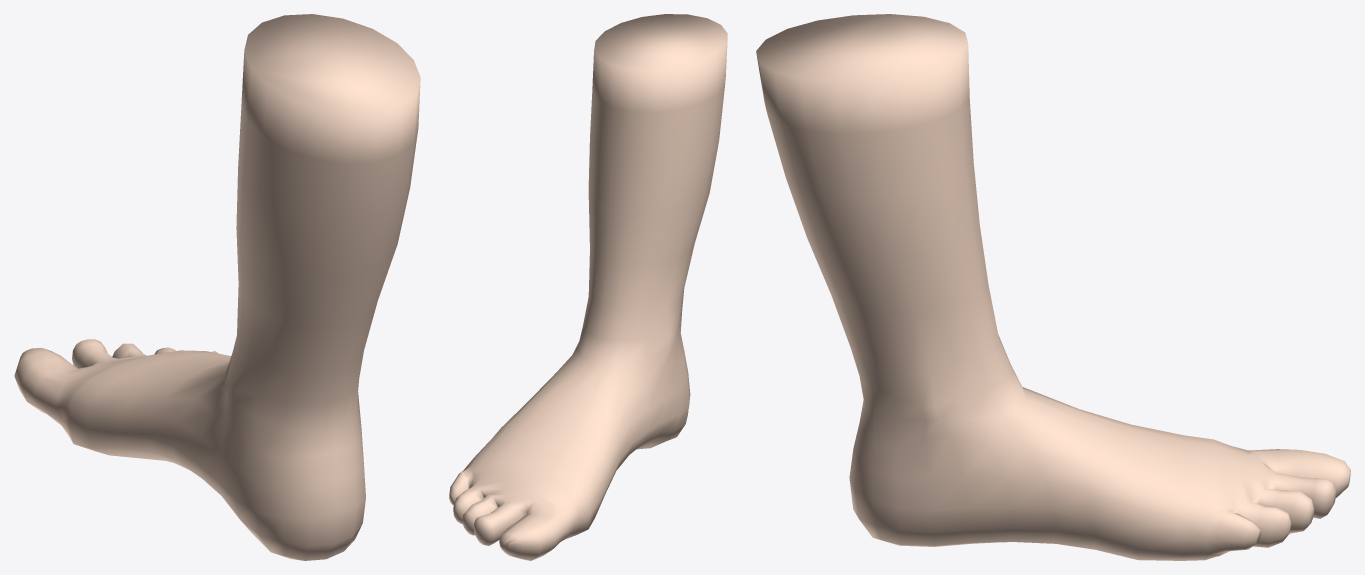
Rendered from Piede DX.fbx.
The picture shows the model from 3 angles, left to right: view 1: azimuth 30°, elevation 25°; view 2: azimuth 150°, elevation 25°; view 3: azimuth 270°, elevation 25°; orthographic projection. The views are drawn at different scales.
Parts seen in each view (by area): view 1: Piede; view 2: Piede; view 3: Piede.
Part boxes in pixels (x1=…): Piede: x1=14, y1=14, x2=420, y2=560; Piede: x1=449, y1=14, x2=727, y2=560; Piede: x1=756, y1=14, x2=1350, y2=560.
Bounding box in the file's own units: 250 × 715 × 770.
